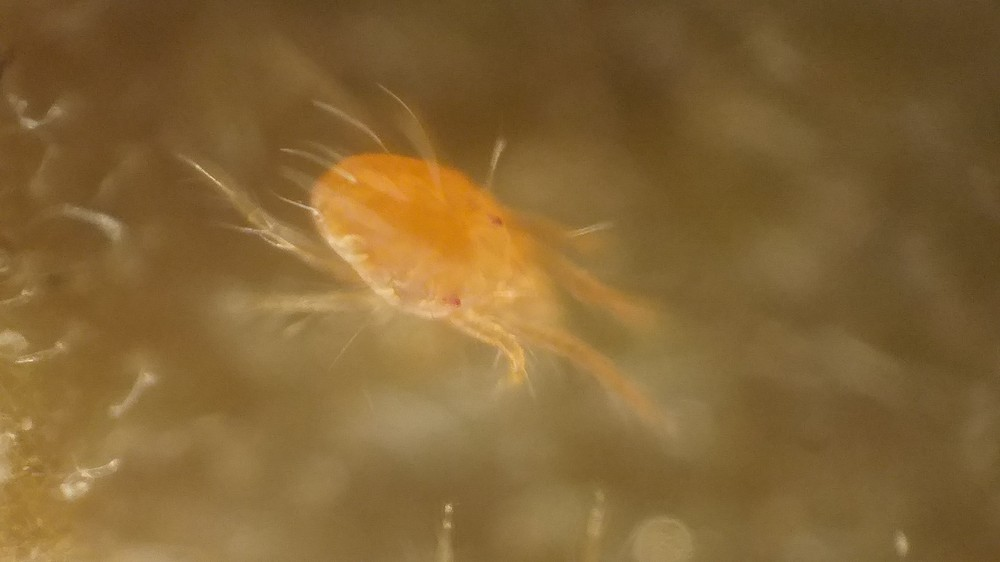Aracnido Rojo: (207, 76, 719, 454)
